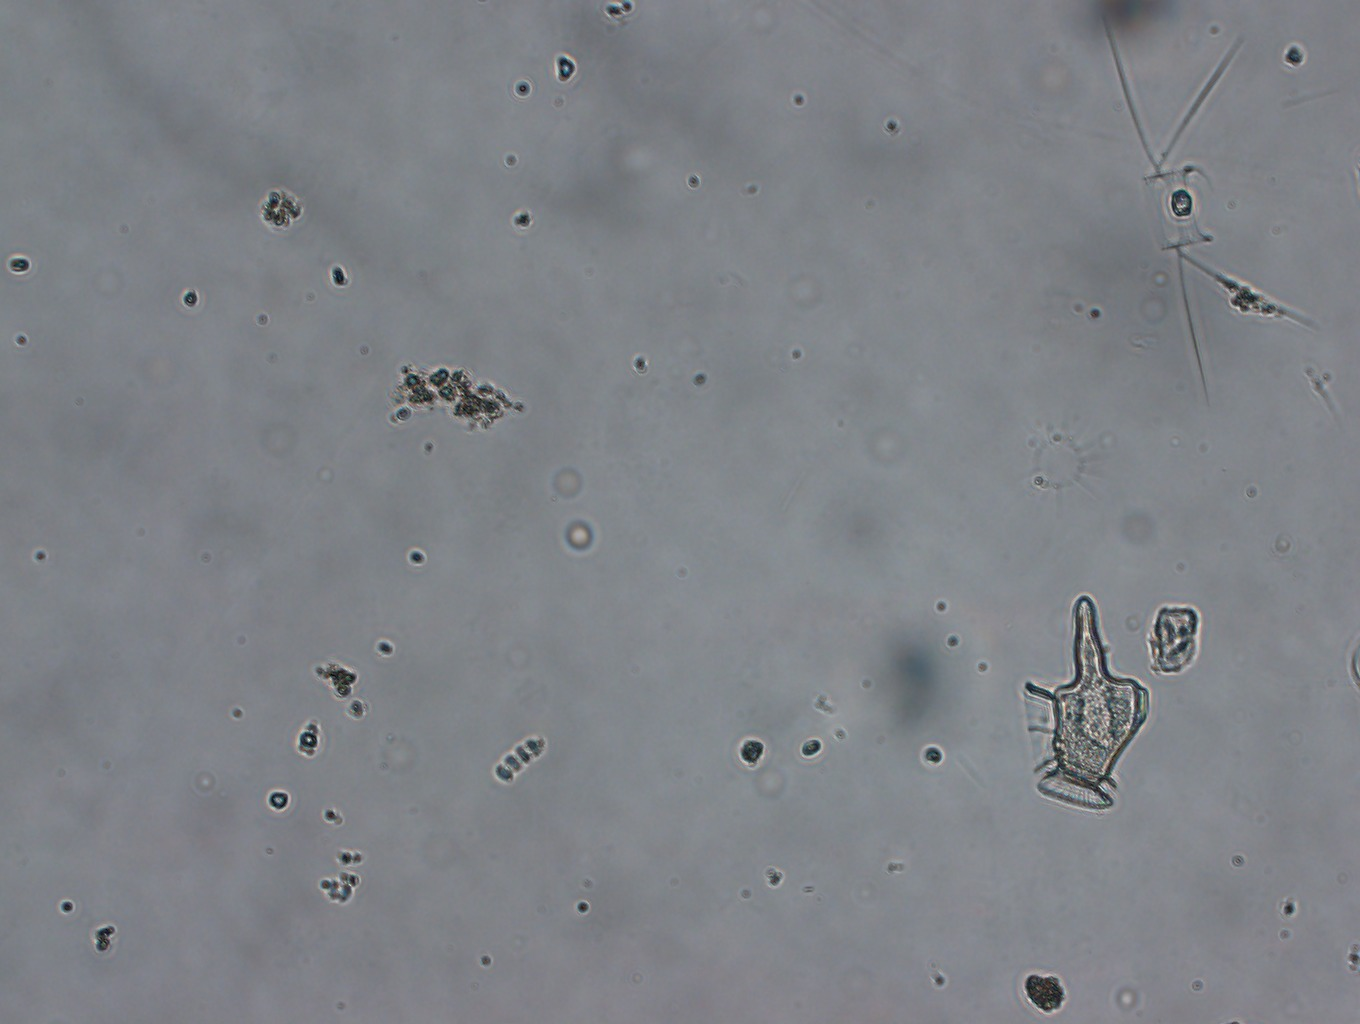chaetoceros: (1104, 19, 1327, 413)
dinophysis caudata: (1016, 589, 1154, 817)
